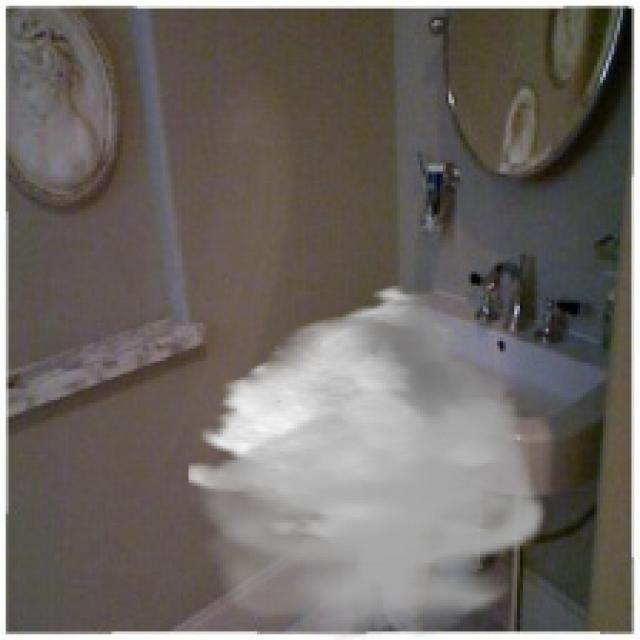Smoke: (188, 282, 554, 638)
